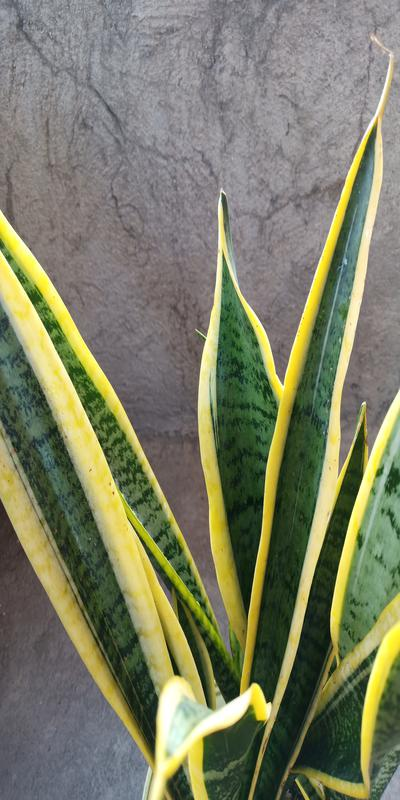Snake plant: (8, 80, 389, 790)
